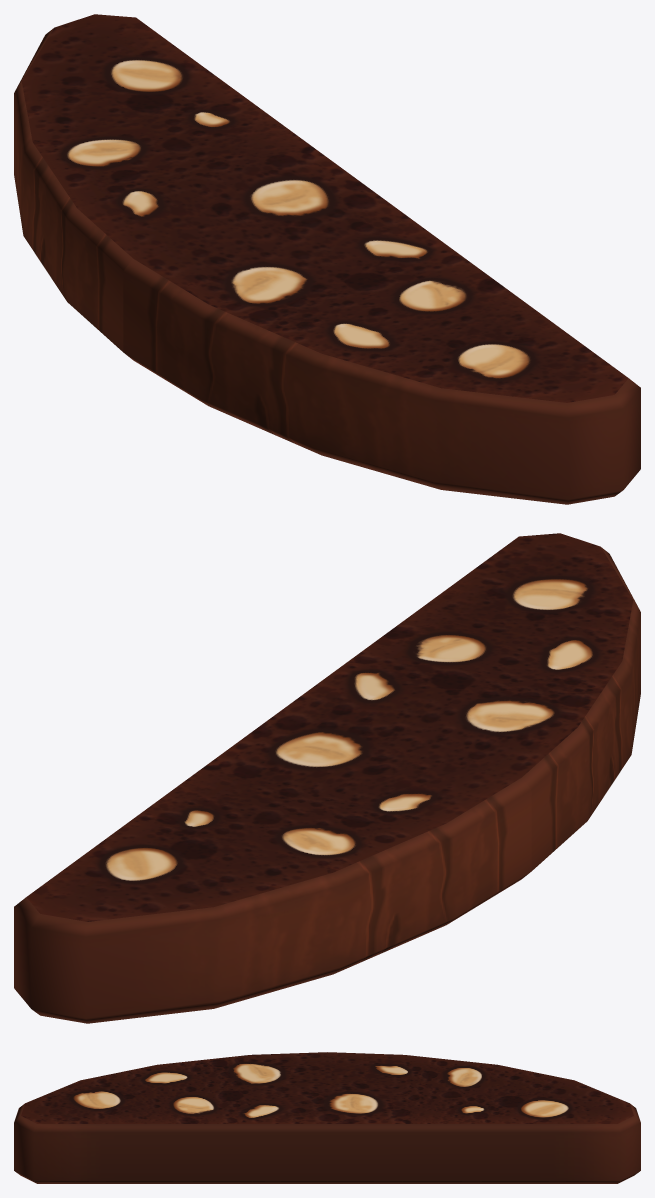
File: Biscotti_02.fbx
3 views of the same model, one above another, from view 1: azimuth 30°, elevation 25°; view 2: azimuth 150°, elevation 25°; view 3: azimuth 270°, elevation 25° (orthographic). The views are drawn at different scales.
Visible parts, largest first — view 1: Biscotti_02; view 2: Biscotti_02; view 3: Biscotti_02.
Boxes of the visible parts, box(x1,y1,x2,y2) form: Biscotti_02: box(14, 14, 640, 504); Biscotti_02: box(14, 533, 640, 1023); Biscotti_02: box(14, 1052, 640, 1183).
Bounding box in the file's own units: 17.96 × 6.5 × 61.57.
